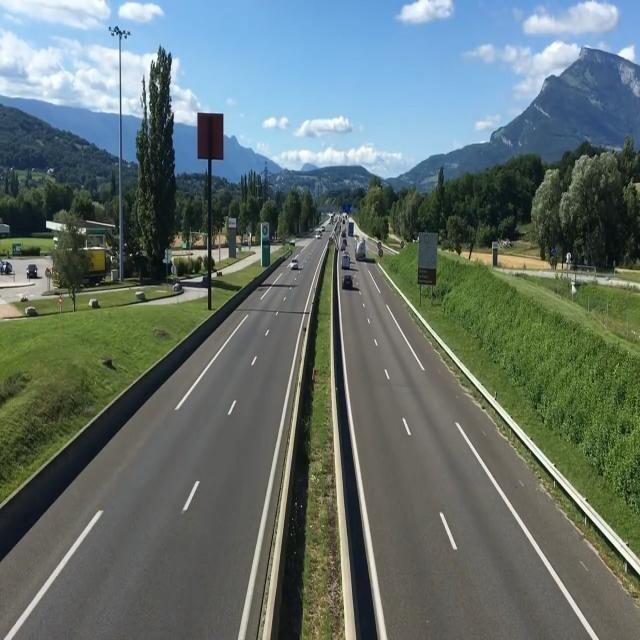Car: (342, 274, 354, 289), (290, 258, 298, 270)
Truck: (354, 237, 367, 263), (341, 252, 351, 270), (347, 221, 355, 238)
